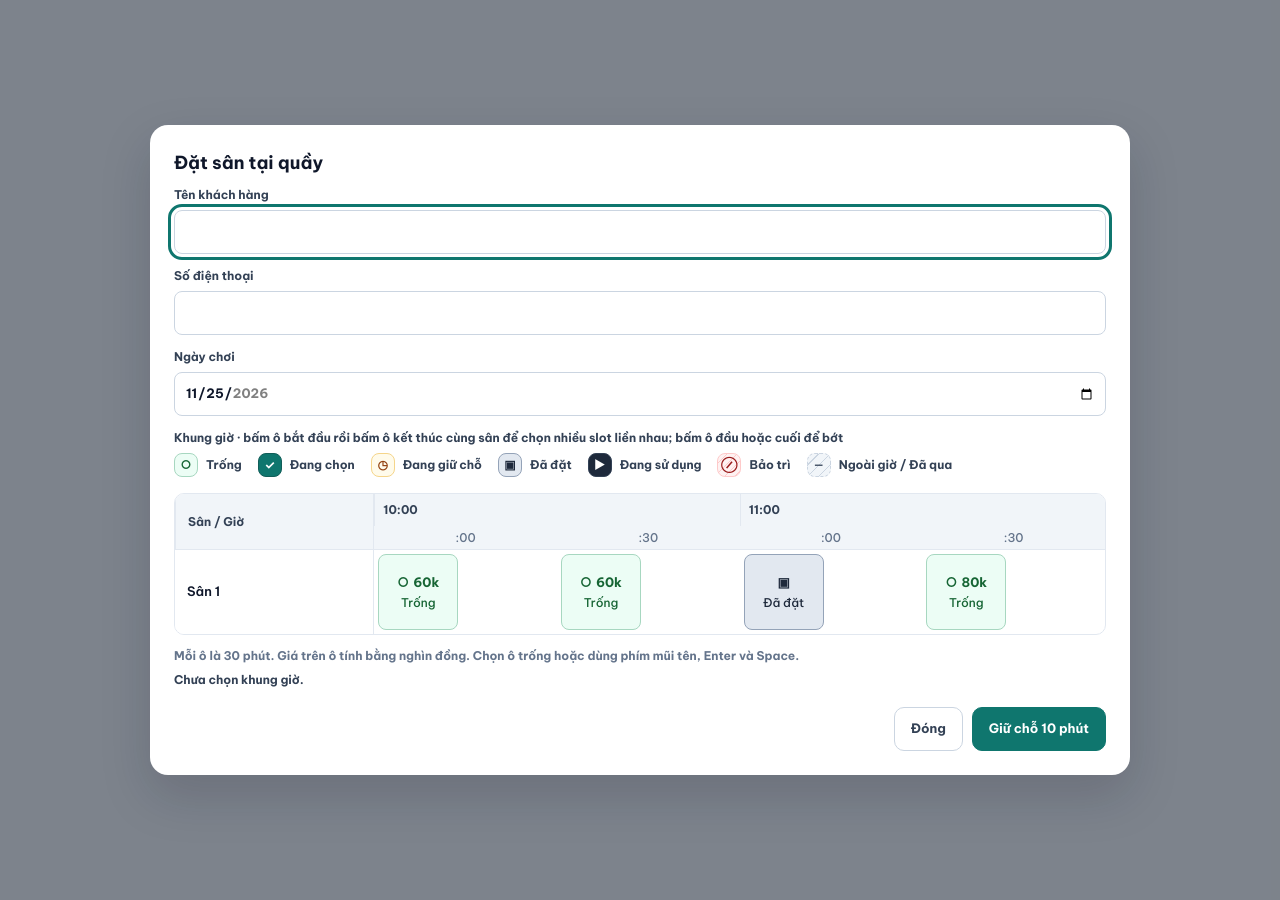
Test: giữ chỗ › lỗi kiểm tra của backend hiện đúng ô
Expected: the table named "Lịch sân theo khung 30 phút" is shown, [175,494,1105,634]
Type "  Nguyễn   Văn An " into the field labelled "Tên khách hàng" at (640, 232), box [174,210,1106,254]
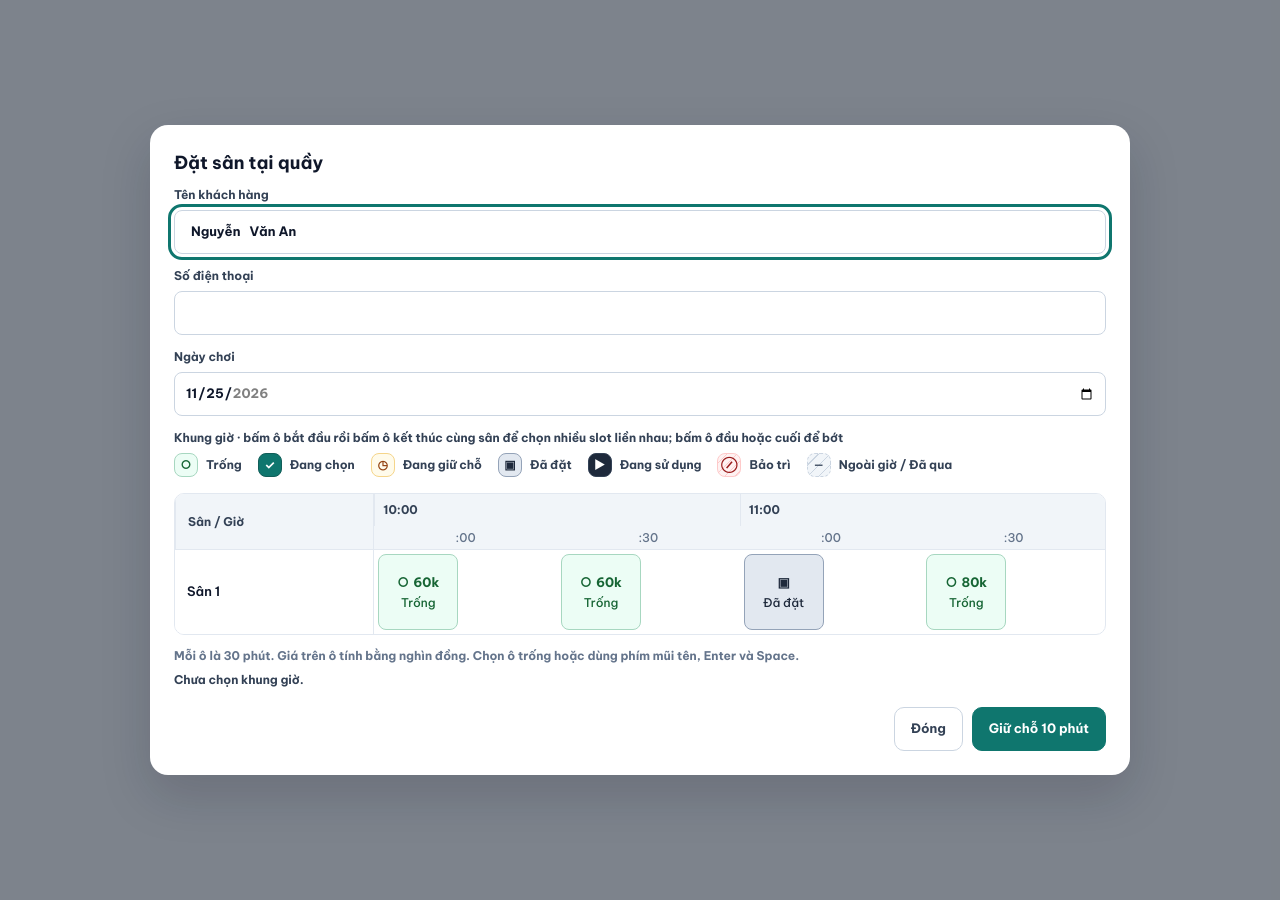
Type "0912345678" into the field labelled "Số điện thoại" at (640, 313), box [174,291,1106,335]
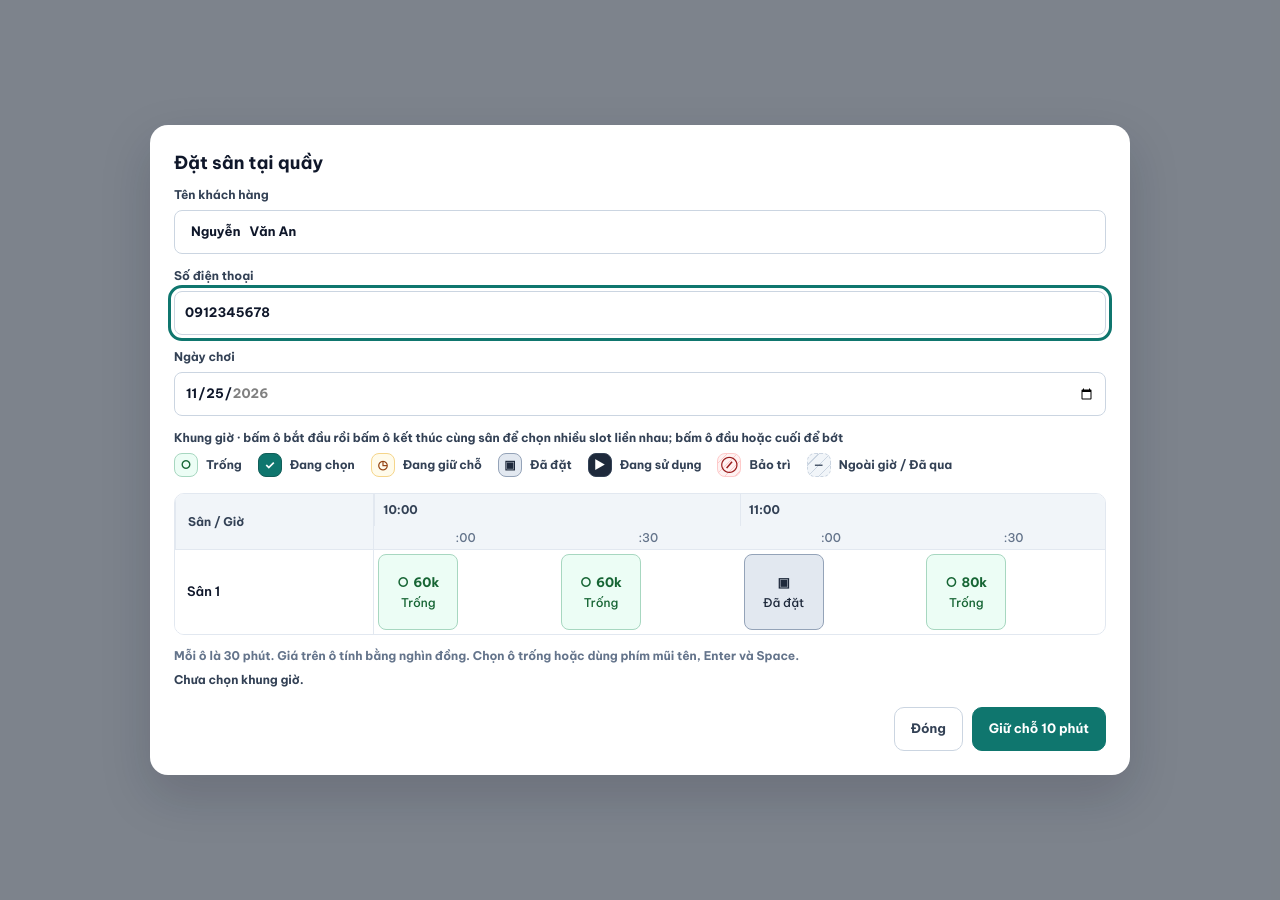
Click the 1st button "○ 60k Trống" at (418, 592), box [378,554,458,630]
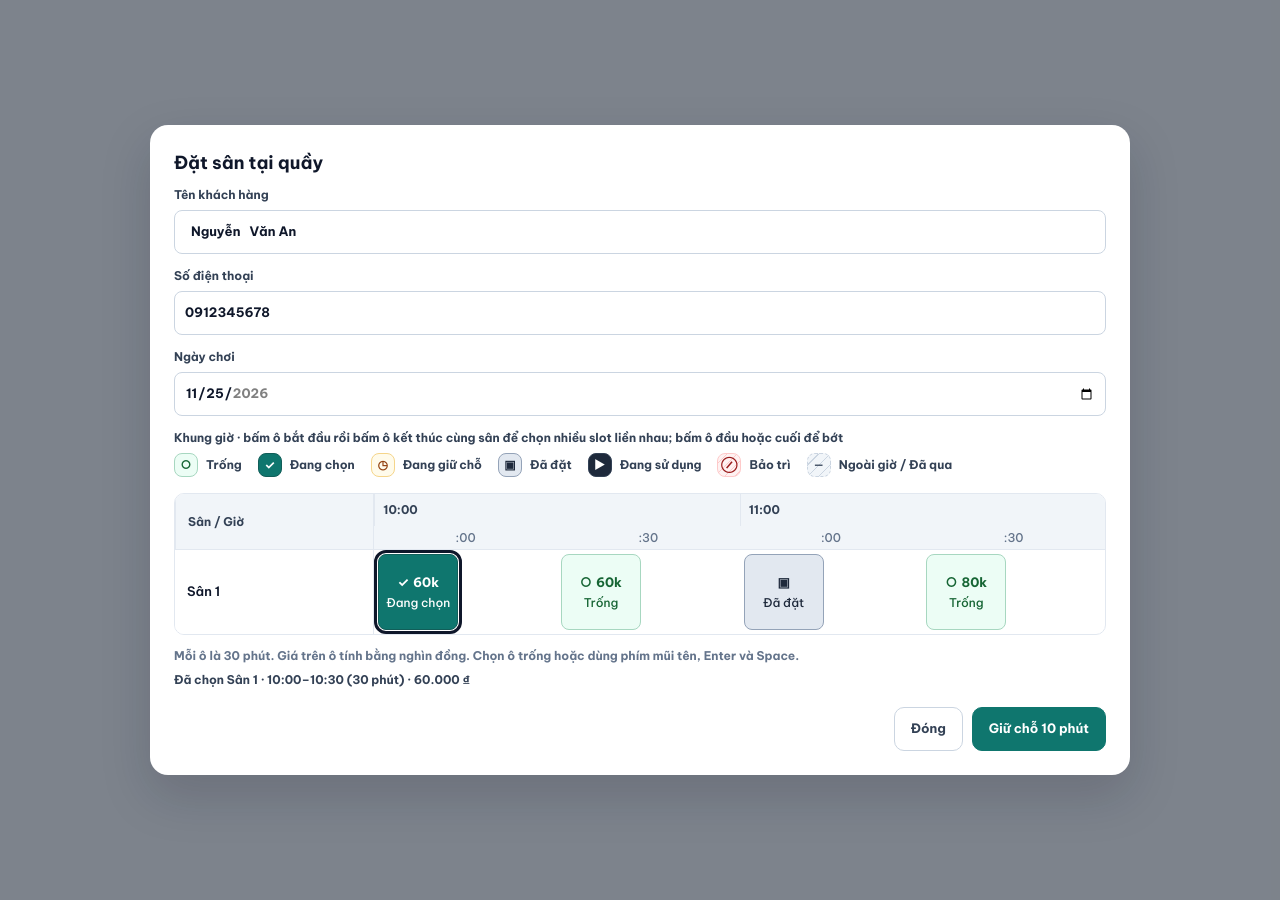
Click the button "Giữ chỗ 10 phút" at (1039, 729), box [972,707,1106,751]
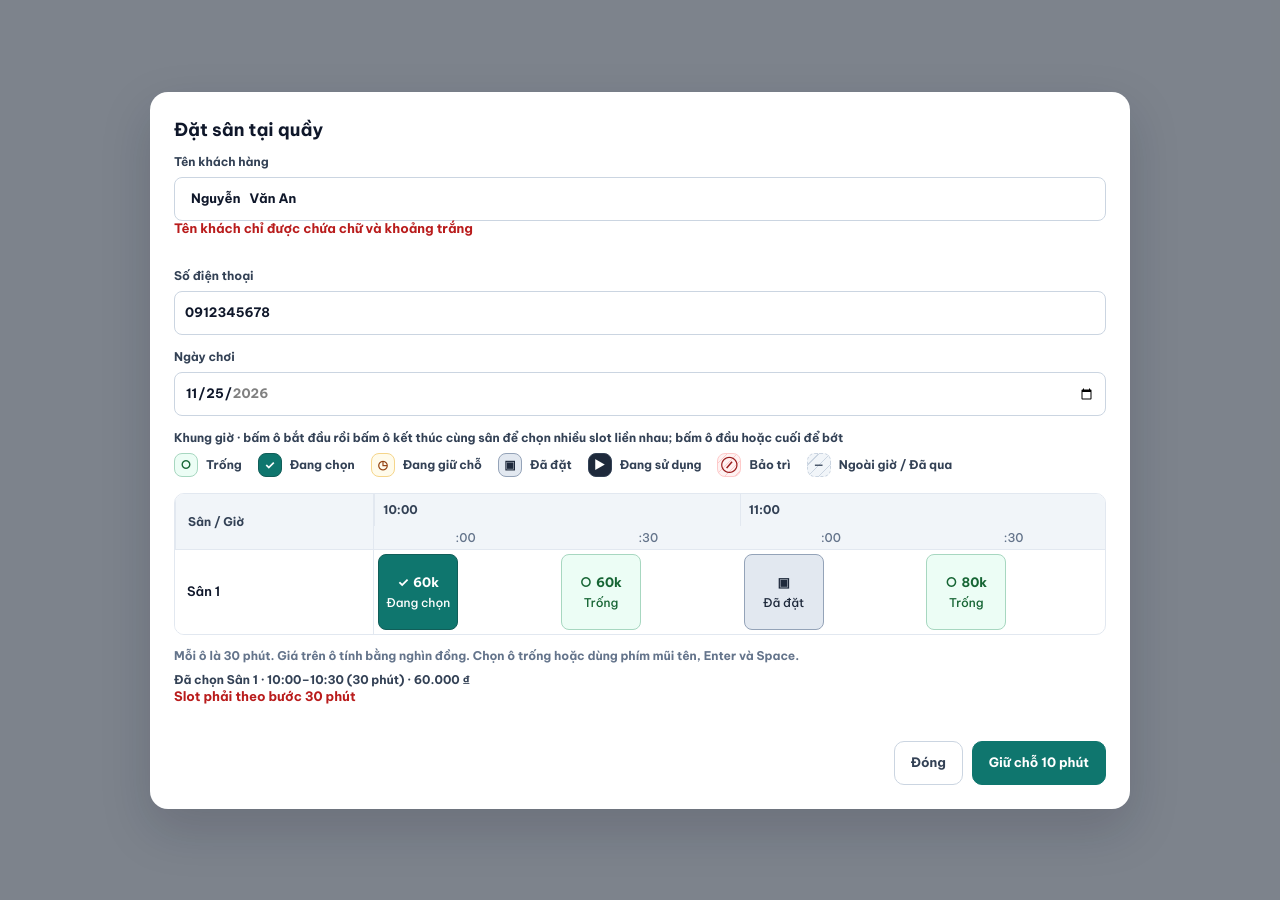
Expected: the text "Tên khách chỉ được chứa chữ và khoảng trắng" is shown, [174,220,473,236]
Expected: the text "Slot phải theo bước 30 phút" is shown, [174,688,356,704]
